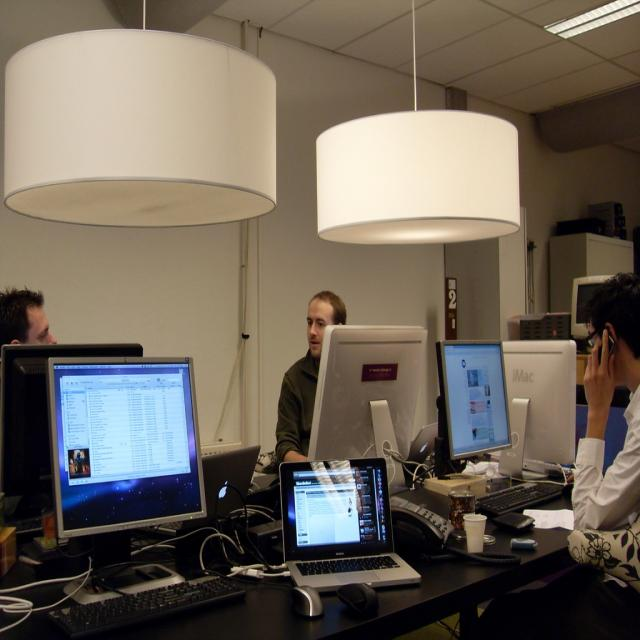desk: (206, 447, 636, 626)
keyboard: (49, 573, 246, 639), (474, 480, 564, 518)
laptop: (280, 456, 422, 596), (306, 325, 426, 462), (199, 444, 262, 518)
mouse: (290, 585, 324, 617)
person: (478, 276, 640, 638), (274, 290, 346, 470), (0, 286, 58, 352)
tv: (48, 358, 208, 544), (436, 341, 512, 462), (570, 273, 629, 342)
